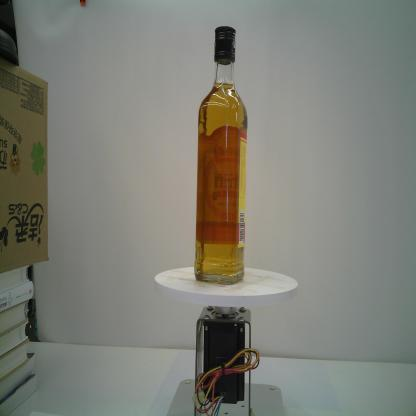Seasoner: (190, 23, 250, 285)
